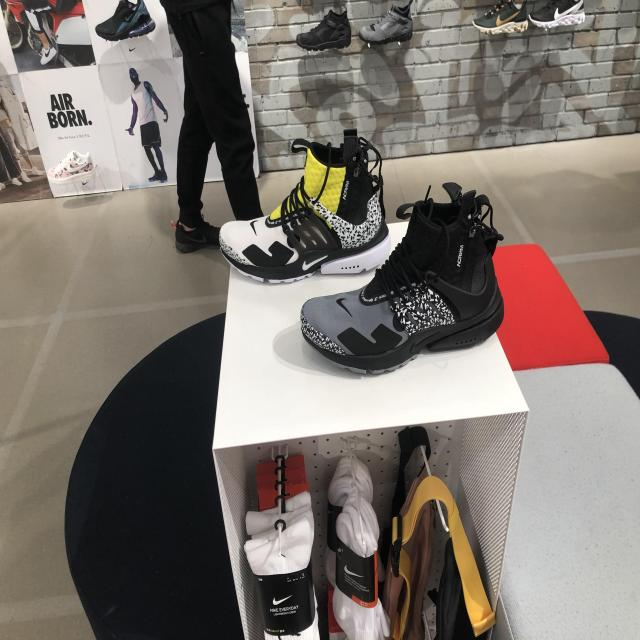shoe: (295, 175, 510, 384), (212, 120, 395, 286), (296, 10, 354, 52), (358, 4, 416, 44), (473, 1, 531, 35)
